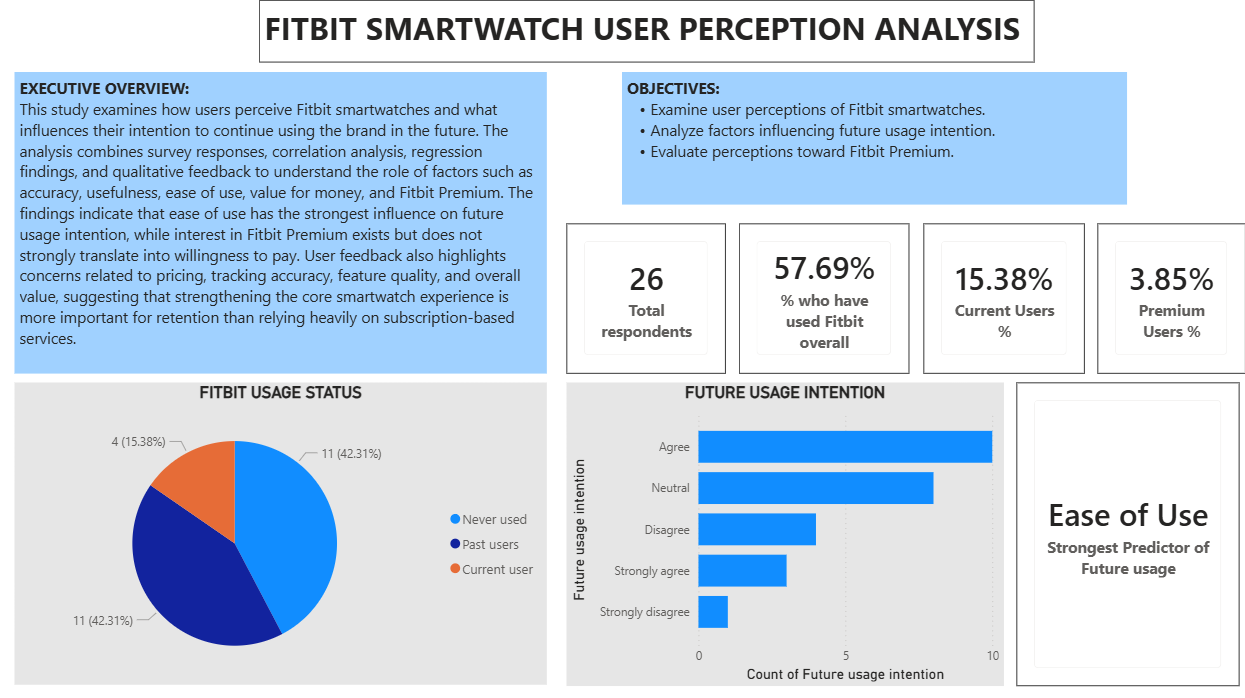

This screenshot's page, from the dashboard's own definition file:
{"tool":"powerbi","page":{"name":"Page 1","canvas":[1280,720],"ordinal":0},"visuals":[{"type":"textbox","box":[16.9,73.2,545.9,309.5],"z":0},{"type":"textbox","box":[640.6,73.7,517.8,136.1],"z":1000},{"type":"textbox","box":[268.3,0,795.4,63.8],"z":2000},{"type":"cardVisual","fields":{"Data":["Table 2.Total respondents"]},"box":[583.4,228.9,163.2,153.8],"z":3000},{"type":"cardVisual","fields":{"Data":["Table 2.% who have used Fitbit overall"]},"box":[759.8,228.9,174.5,153.8],"z":4000},{"type":"cardVisual","fields":{"Data":["Table 2.Current Users %"]},"box":[949.2,228.9,165.1,153.8],"z":5000},{"type":"cardVisual","fields":{"Data":["Table 2.Premium Users %"]},"box":[1127.4,228.9,152,153.8],"z":6000},{"type":"pieChart","title":"FITBIT USAGE STATUS","fields":{"Y":["CountNonNull(Form_Responses(Text).Used_Status)"],"Category":["Form_Responses(Text).Label"]},"box":[17,393,546,310],"z":7000},{"type":"barChart","title":"FUTURE USAGE INTENTION","fields":{"Category":["Form_Responses(Text).Future usage intention"],"Y":["CountNonNull(Form_Responses(Text).Future usage intention)"]},"box":[583.4,392.1,448.3,311.4],"z":8000},{"type":"cardVisual","fields":{"Data":["DAX measures.Strongest Predictor"]},"box":[1044.9,392.1,228.9,311.4],"z":9000}]}

Visuals, with their boxes in screenshot pixels (x1, y1, x2, y2), scaled from the page's 1280x720 canvas onto the 1245x698 screenshot:
textbox: <region>16, 71, 547, 371</region>
textbox: <region>623, 71, 1127, 203</region>
textbox: <region>261, 0, 1035, 62</region>
cardVisual - Table 2.Total respondents: <region>567, 222, 726, 371</region>
cardVisual - Table 2.% who have used Fitbit overall: <region>739, 222, 909, 371</region>
cardVisual - Table 2.Current Users %: <region>923, 222, 1084, 371</region>
cardVisual - Table 2.Premium Users %: <region>1097, 222, 1244, 371</region>
"FITBIT USAGE STATUS" pieChart: <region>17, 381, 548, 682</region>
"FUTURE USAGE INTENTION" barChart: <region>567, 380, 1003, 682</region>
cardVisual - DAX measures.Strongest Predictor: <region>1016, 380, 1239, 682</region>
